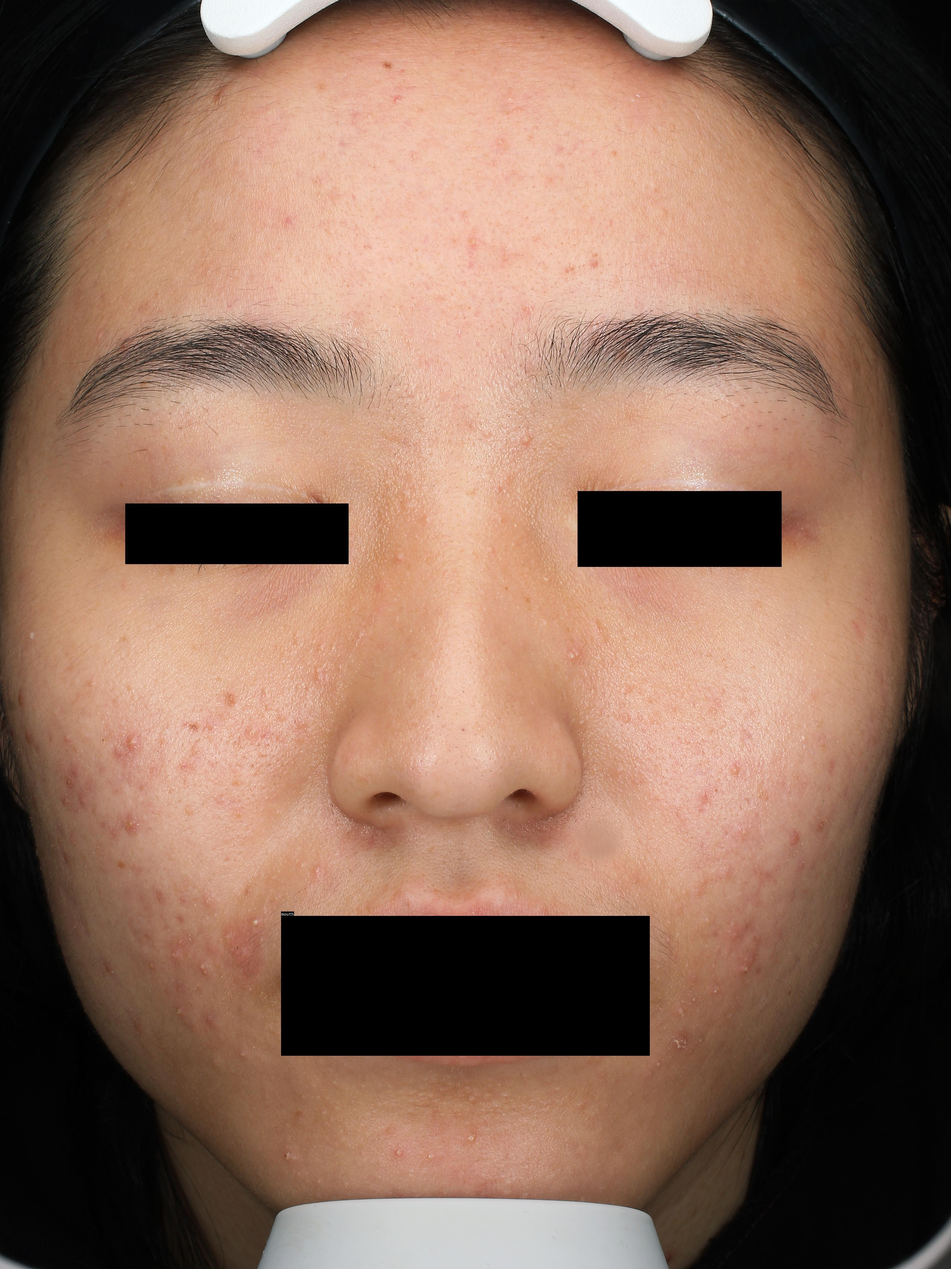atrophic_scar: (742, 795, 758, 808), (255, 751, 268, 762), (596, 623, 603, 634), (222, 856, 230, 865), (363, 243, 372, 250), (565, 268, 575, 273), (409, 152, 415, 159), (471, 490, 477, 496)
closed_comedo: (209, 1053, 225, 1073), (184, 804, 195, 817), (848, 381, 858, 394), (276, 734, 287, 744), (296, 718, 306, 727), (407, 390, 418, 398), (482, 430, 491, 439), (202, 896, 210, 906), (316, 644, 325, 652), (487, 544, 494, 554), (314, 674, 322, 682), (614, 767, 622, 774), (265, 702, 272, 710), (261, 689, 269, 696), (87, 679, 94, 687), (279, 711, 285, 720), (614, 712, 621, 719), (800, 735, 807, 742), (682, 888, 688, 896), (267, 672, 275, 678), (618, 701, 626, 707), (704, 916, 710, 924), (718, 688, 725, 694), (263, 794, 269, 801), (129, 659, 136, 665), (503, 253, 509, 260), (315, 1179, 322, 1185), (423, 516, 429, 522), (681, 739, 687, 745), (688, 701, 694, 707), (576, 1102, 582, 1108), (514, 522, 519, 529), (528, 306, 533, 312), (573, 230, 578, 236), (536, 121, 541, 126), (509, 476, 514, 481), (544, 577, 549, 582), (237, 812, 242, 817), (410, 282, 415, 287), (317, 193, 321, 199), (639, 715, 643, 721), (460, 282, 465, 286), (344, 280, 348, 285), (499, 516, 503, 521), (712, 710, 717, 714), (108, 681, 113, 685), (508, 97, 513, 101), (631, 98, 635, 103), (697, 760, 703, 763), (800, 526, 804, 530), (579, 721, 583, 725), (711, 704, 715, 708), (330, 258, 333, 262), (366, 115, 370, 118), (482, 232, 485, 236), (478, 173, 481, 177), (300, 864, 303, 868), (667, 938, 670, 942), (512, 173, 515, 176), (130, 181, 133, 184), (475, 230, 478, 232), (514, 174, 516, 177), (451, 238, 453, 241), (127, 204, 130, 206), (108, 204, 111, 206)
hypertrophic_scar: (274, 1032, 287, 1045), (416, 1091, 434, 1100), (419, 1084, 435, 1091), (551, 1085, 563, 1093), (406, 1089, 419, 1096), (466, 1095, 476, 1103), (482, 1092, 493, 1099), (437, 1086, 449, 1092), (332, 1079, 341, 1087), (444, 1081, 455, 1086), (463, 1085, 472, 1091), (319, 1110, 327, 1116), (496, 1082, 503, 1088), (502, 1093, 510, 1098), (444, 1075, 452, 1079)
melasma: (225, 692, 237, 708), (524, 596, 531, 604), (504, 586, 509, 591)
nevus: (187, 719, 201, 733), (382, 61, 393, 71), (787, 989, 793, 995)
open_comedo: (460, 726, 467, 733), (101, 737, 106, 743), (569, 1168, 575, 1173), (424, 736, 429, 740), (623, 692, 627, 696), (507, 274, 510, 278), (455, 745, 458, 749), (505, 245, 507, 248)
other: (601, 480, 783, 506), (147, 478, 318, 505)
papule: (221, 931, 254, 959), (242, 725, 261, 741), (124, 735, 142, 751), (213, 84, 226, 104), (789, 829, 802, 846), (726, 927, 740, 942), (204, 719, 216, 736), (16, 689, 26, 707), (79, 791, 89, 807), (103, 960, 114, 974), (745, 951, 756, 965), (520, 433, 532, 445), (621, 712, 632, 725), (96, 328, 105, 343), (65, 776, 76, 788), (23, 729, 32, 743), (169, 950, 181, 960), (62, 794, 72, 806), (205, 1011, 215, 1022), (180, 761, 191, 771), (375, 581, 384, 593), (710, 984, 722, 993), (492, 486, 503, 495), (731, 763, 739, 775), (70, 767, 79, 777), (175, 1006, 183, 1017), (817, 820, 825, 831), (394, 552, 401, 564), (148, 961, 156, 971), (741, 827, 749, 835), (701, 791, 707, 801), (314, 867, 322, 874), (756, 966, 762, 974), (497, 138, 503, 144), (393, 96, 399, 102), (359, 830, 364, 836), (63, 737, 69, 742), (517, 107, 522, 112)
pustule: (464, 1131, 479, 1145), (123, 818, 138, 831), (249, 916, 262, 928), (394, 1146, 405, 1160), (566, 649, 578, 661), (676, 1006, 685, 1017), (284, 1151, 292, 1162), (738, 966, 749, 974), (426, 1154, 435, 1162), (238, 1051, 246, 1059), (469, 237, 477, 244), (646, 1069, 653, 1077), (199, 963, 206, 971), (656, 1061, 662, 1068), (202, 970, 208, 975)
